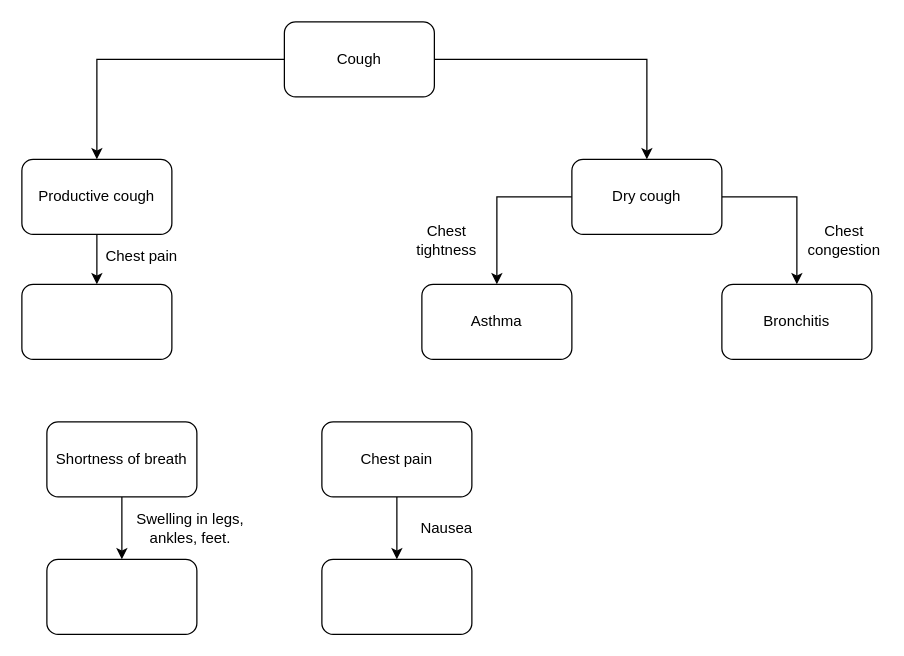
This 904x656 diagram has some shape labels left out. Here are the shapes that lost their labels. From the top down, the centre of each, then its label:
At point (96, 321): "Pneumonia".
At point (121, 596): "Heart faliure".
At point (396, 596): "Heart attack".
